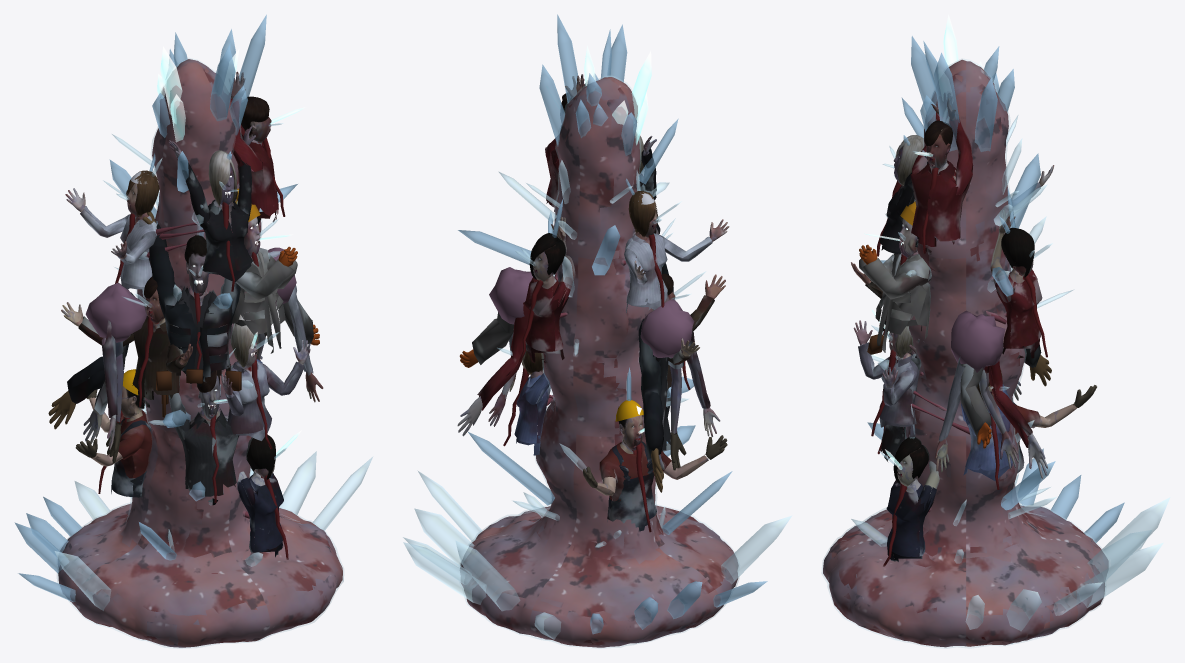
Rendered from choir.glb.
3 renders of one model, left to right at view 1: azimuth 30°, elevation 25°; view 2: azimuth 150°, elevation 25°; view 3: azimuth 270°, elevation 25°, orthographic. The views are drawn at different scales.
Parts seen in each view (by area): view 1: Body, Glaze, Ice, ArmL, ArmR, Head4, Head2, Head1, Head0; view 2: Body, Glaze, Ice, ArmL, ArmR; view 3: Body, Glaze, Ice, ArmR, Head4, ArmL, Head1, Head3.
Boxes of the visible parts, box(x1,y1,x2,y2) form: Body: box(58, 59, 342, 647); Glaze: box(57, 58, 343, 648); Ice: box(14, 14, 372, 610); ArmL: box(48, 282, 146, 463); ArmR: box(257, 247, 323, 402); Head4: box(208, 150, 236, 205); Head2: box(184, 235, 210, 296); Head1: box(230, 314, 259, 367); Head0: box(196, 370, 221, 419); Body: box(460, 74, 738, 647); Glaze: box(460, 76, 739, 648); Ice: box(403, 14, 791, 639); ArmL: box(638, 299, 720, 492); ArmR: box(457, 267, 532, 436); Body: box(823, 59, 1108, 647); Glaze: box(821, 58, 1103, 648); Ice: box(851, 14, 1170, 644); ArmR: box(935, 310, 1047, 478); Head4: box(893, 135, 924, 186); ArmL: box(1012, 345, 1051, 401); Head1: box(888, 326, 913, 359); Head3: box(899, 219, 918, 257).
Size of the model in its own units: 3.77 by 6.09 by 3.21.
90 materials, 65 textured.
